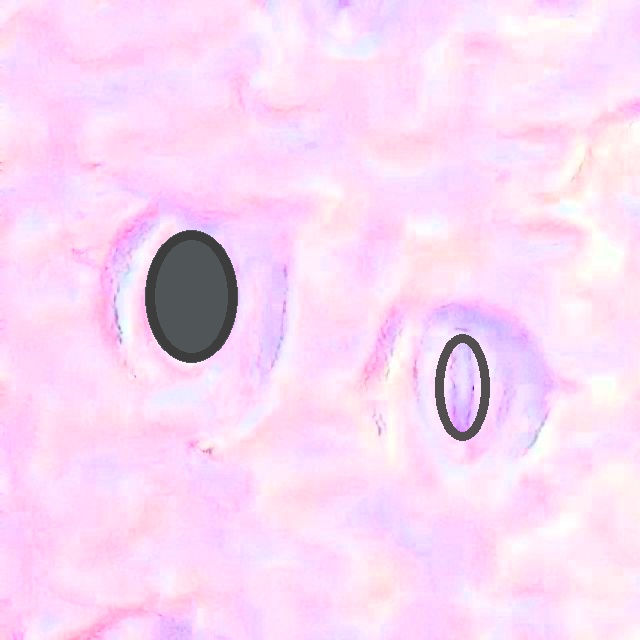open: (145, 229, 237, 363), (434, 334, 489, 440)
